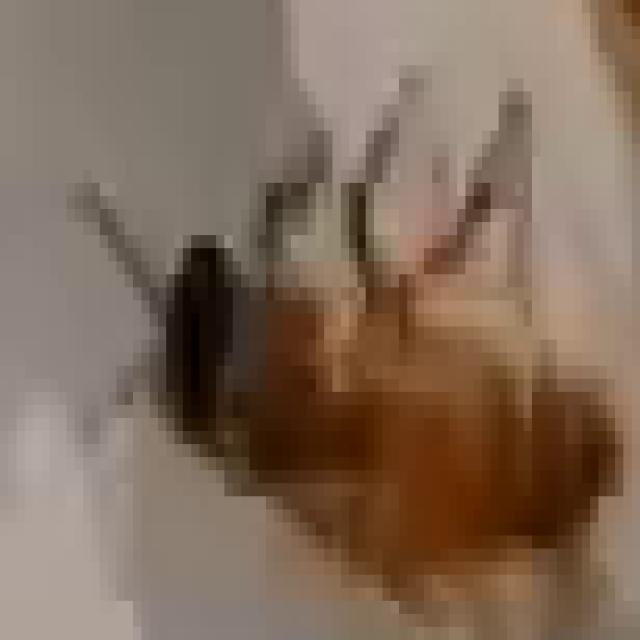honeybee: (115, 174, 640, 595)
